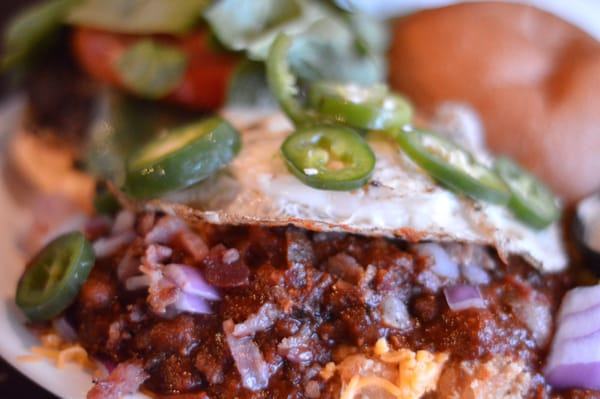pizza: (388, 3, 600, 202)
